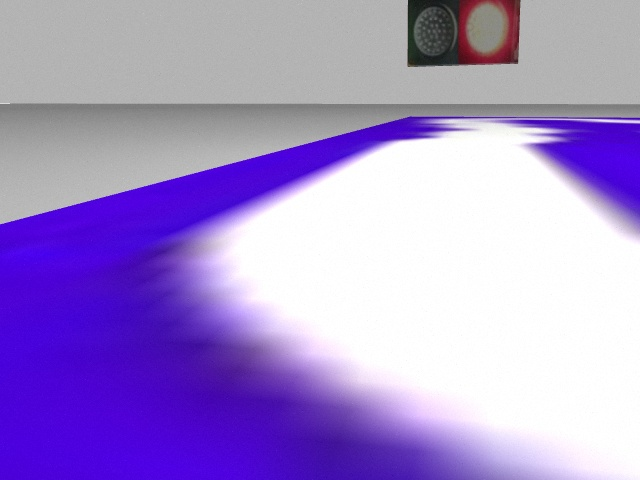red: (462, 1, 518, 67)
